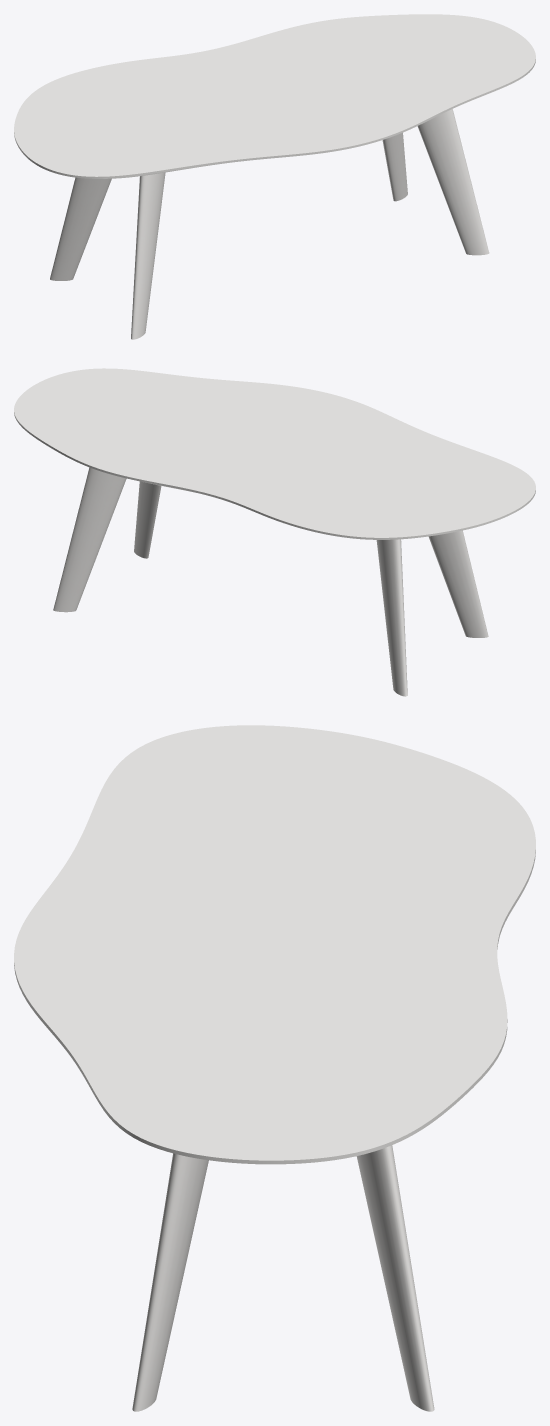
Rendered from purewhite_toplast_facet_ferdinantwalnut.glb.
The picture shows the model from 3 angles, top to bottom: view 1: azimuth 30°, elevation 25°; view 2: azimuth 150°, elevation 25°; view 3: azimuth 270°, elevation 25°; orthographic projection. The views are drawn at different scales.
Parts seen in each view (by area): view 1: facet_toplast, ferdinandwalnut; view 2: facet_toplast, ferdinandwalnut; view 3: facet_toplast, ferdinandwalnut.
Part boxes in pixels (bbox=[...]): facet_toplast: bbox=[14, 14, 535, 178]; ferdinandwalnut: bbox=[50, 109, 489, 339]; facet_toplast: bbox=[14, 368, 535, 539]; ferdinandwalnut: bbox=[53, 467, 488, 696]; facet_toplast: bbox=[14, 725, 535, 1164]; ferdinandwalnut: bbox=[132, 1145, 434, 1411].
Size of the model in its own units: 7.5 by 2.51 by 3.8.
1 material, 1 textured.
